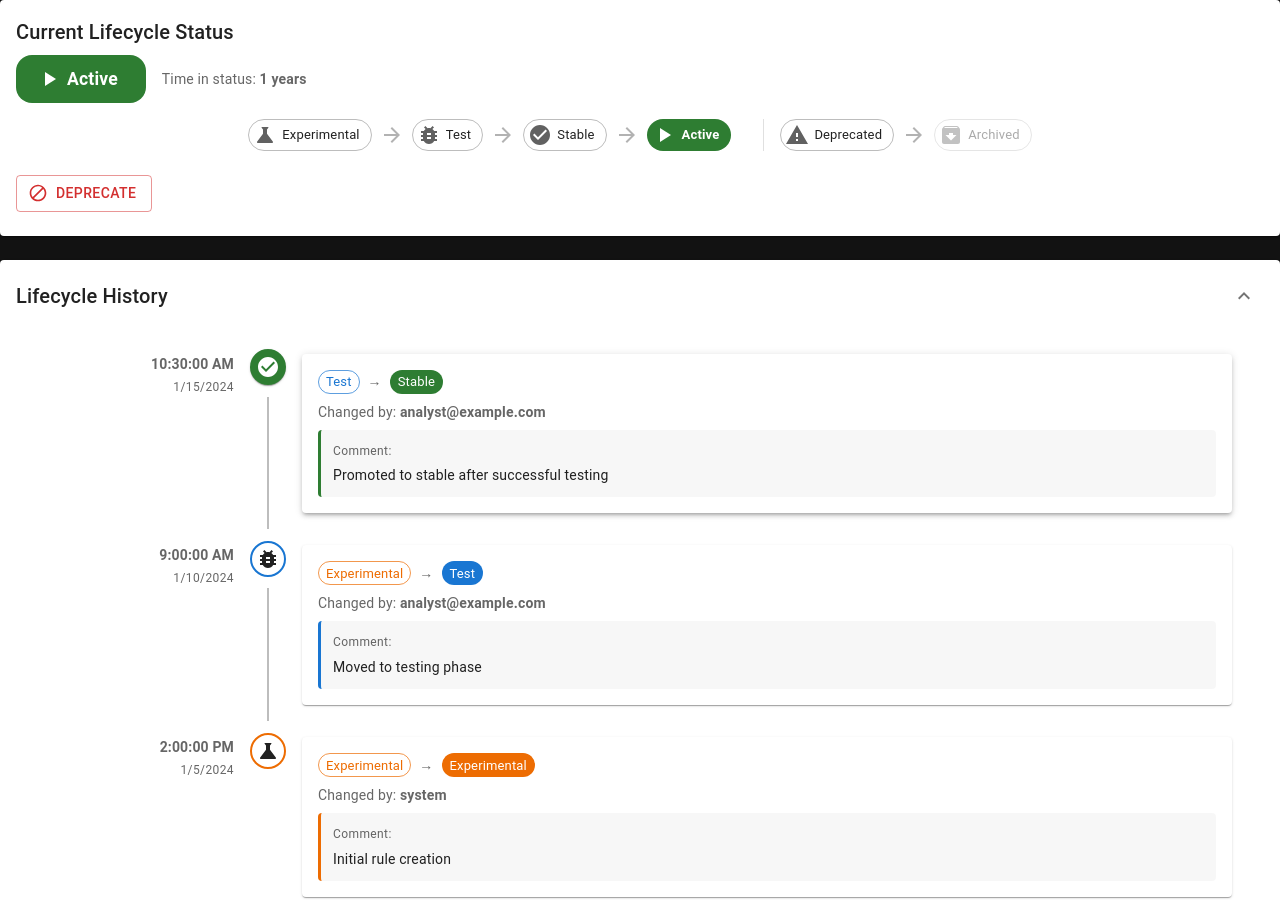
Test case: RuleLifecyclePanel › Deprecation Dialog › opens deprecation dialog when deprecate button clicked
This screenshot has width=1280, height=900.
Click the button with aria-label "deprecate rule". click: (84, 193)
box: [16,175,152,212]
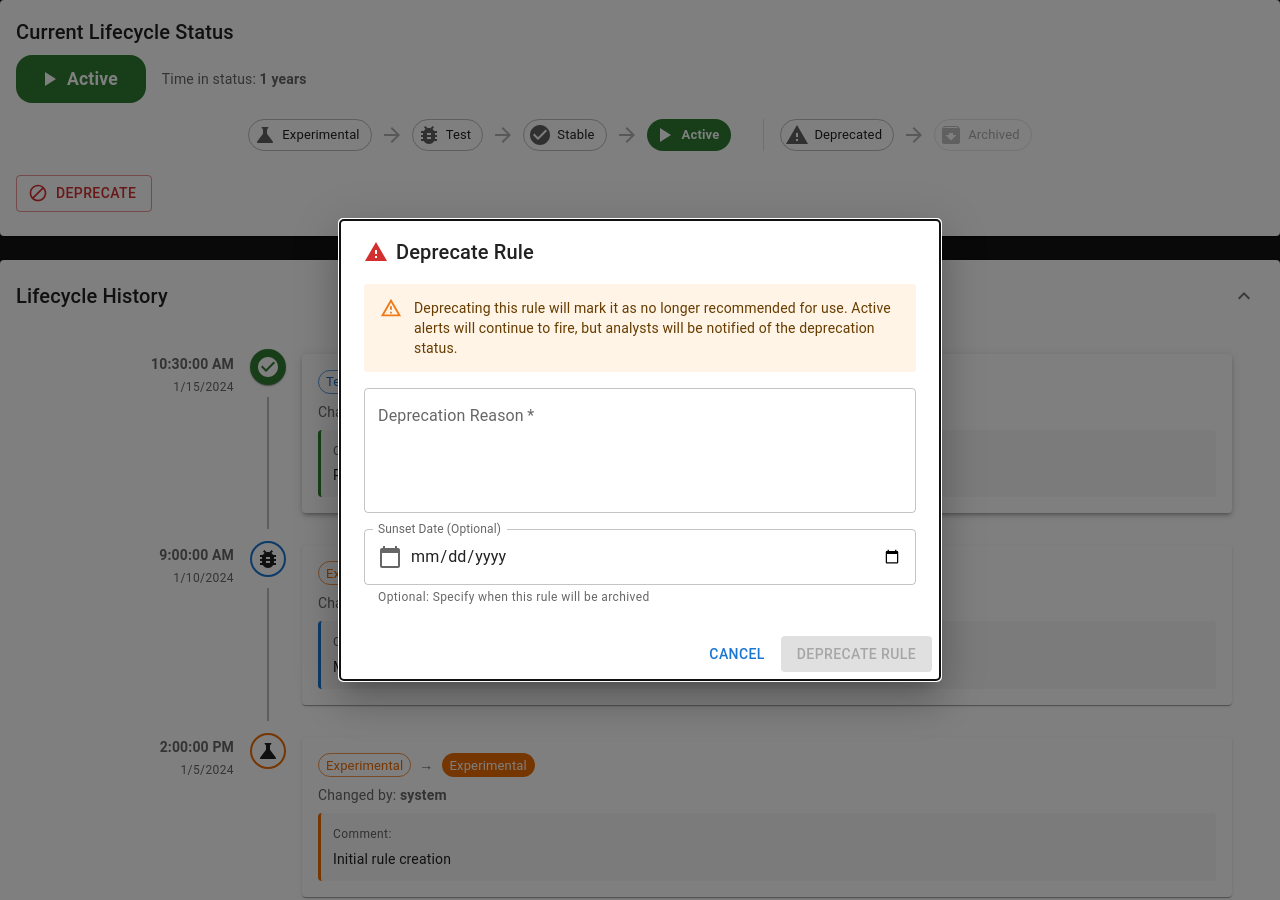
Expected: the dialog "Deprecate Rule" is shown, [340,220,940,680]
